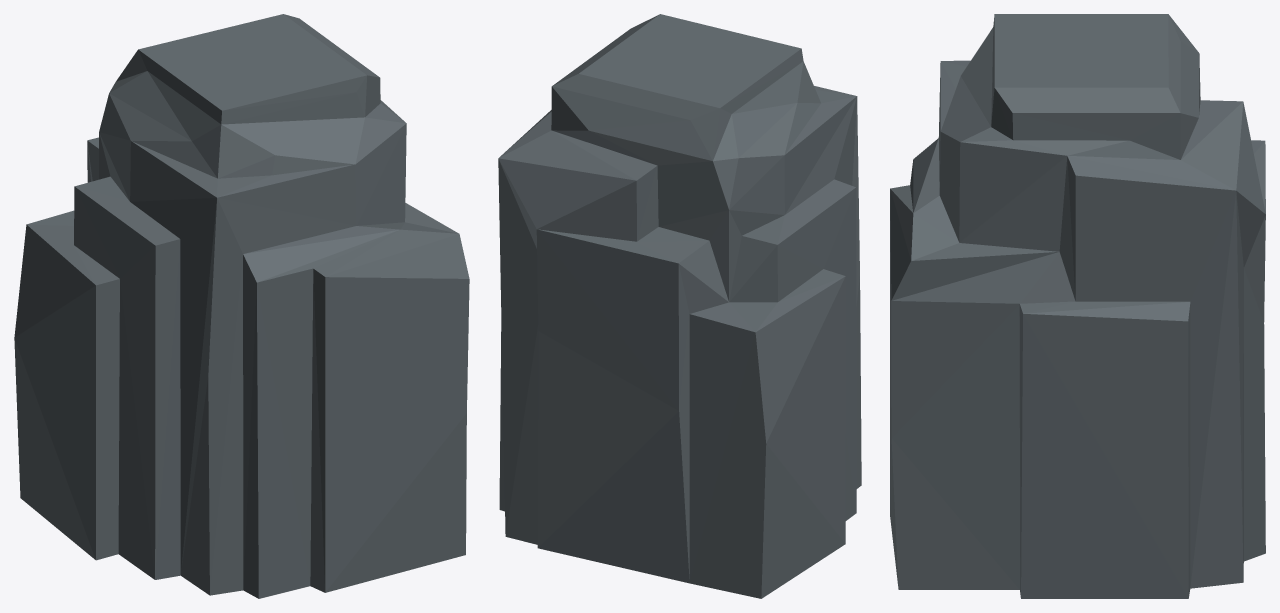
The model's file is Rock_Layered_3_LOD1.fbx.
3 renders of one model, left to right at view 1: azimuth 30°, elevation 25°; view 2: azimuth 150°, elevation 25°; view 3: azimuth 270°, elevation 25°, orthographic. The views are drawn at different scales.
Visible parts, largest first — view 1: Group42589; view 2: Group42589; view 3: Group42589.
Boxes of the visible parts, bbox=[...] form: Group42589: bbox=[14, 14, 469, 598]; Group42589: bbox=[498, 14, 861, 598]; Group42589: bbox=[890, 14, 1265, 598].
Size of the model in its own units: 207 by 300 by 215.
